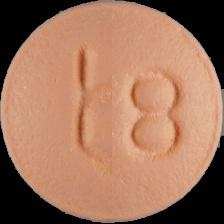51285-092: (0, 0, 224, 224)
